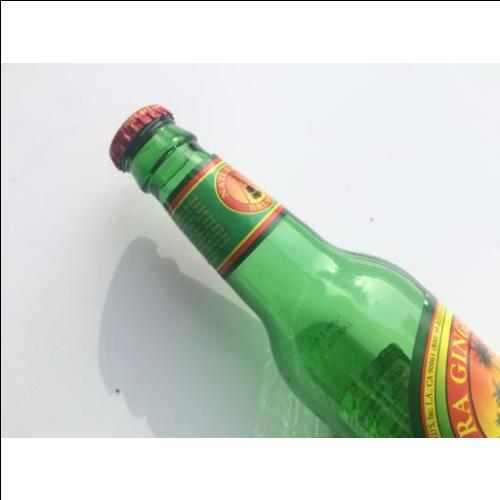glass: (115, 110, 499, 438)
